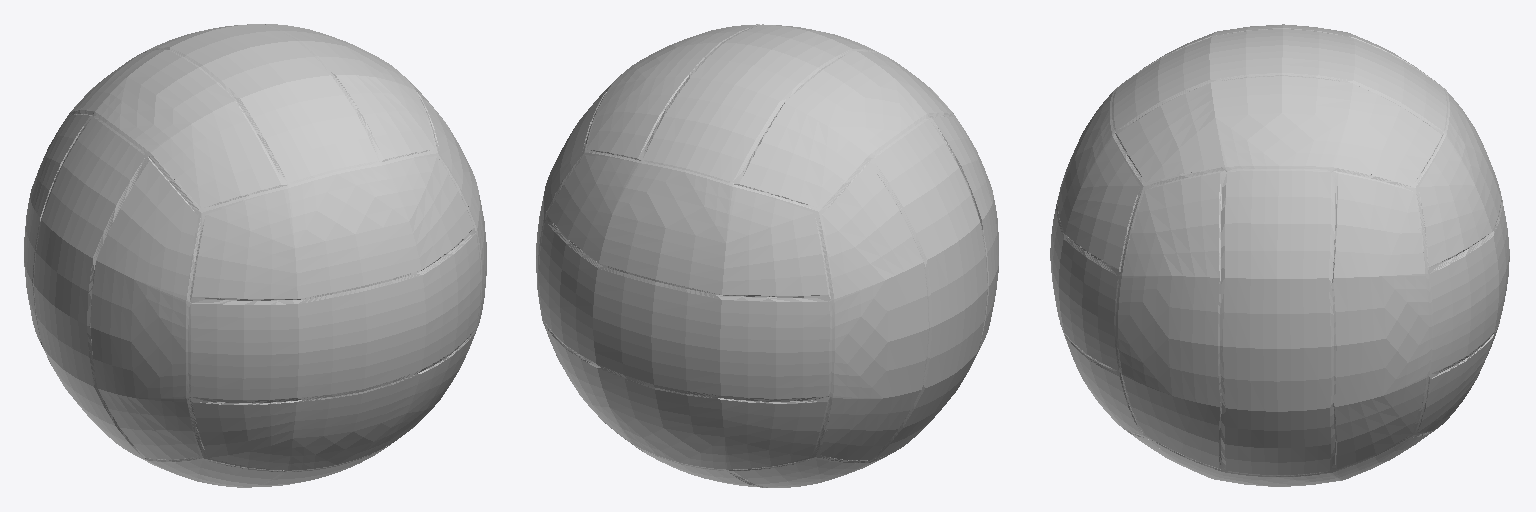
The model's file is volleyball-colored.obj.
3 renders of one model, left to right at view 1: azimuth 30°, elevation 25°; view 2: azimuth 150°, elevation 25°; view 3: azimuth 270°, elevation 25°, orthographic.
Visible parts, largest first — view 1: object__5; view 2: object__5; view 3: object__5.
Part boxes in pixels (left/top/right/bottom): object__5: left=24, top=24, right=486, bottom=487; object__5: left=536, top=24, right=998, bottom=487; object__5: left=1050, top=24, right=1509, bottom=486.
Size of the model in its own units: 3.39 by 3.39 by 3.38.